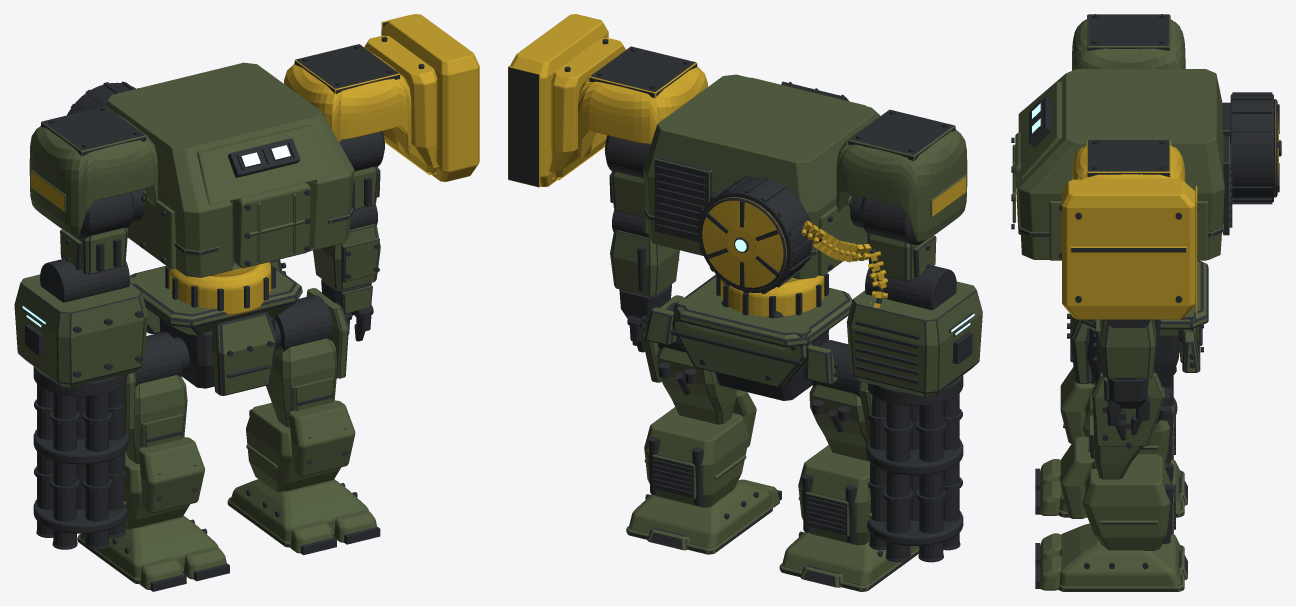
File: Titan_H2.fbx
The picture shows the model from 3 angles, left to right: view 1: azimuth 30°, elevation 25°; view 2: azimuth 150°, elevation 25°; view 3: azimuth 270°, elevation 25°; orthographic projection. The views are drawn at different scales.
Visible parts, largest first — view 1: H2_Torso_Upper, H2_Shoulder_L, H2_Cannon, H2_Barrels, H2_Shoulder_R, H2_Pelvis, H2_Shin_L, H2_Thigh_L, H2_Thigh_R, H2_Shin_R, H2_Hatch, H2_Foot_L (+10 smaller); view 2: H2_Torso_Upper, H2_Shoulder_L, H2_Cannon, H2_Pelvis, H2_Barrels, H2_Shoulder_R, H2_Drum, H2_Shin_L, H2_Foot_L, H2_Shin_R, H2_Foot_R, H2_Thigh_R (+7 smaller); view 3: H2_Torso_Upper, H2_Shoulder_L, H2_Shin_L, H2_Foot_L, H2_Shoulder_R, H2_Drum, H2_Pelvis, H2_Thigh_L, H2_Forearm_L, H2_Shin_R, H2_Toe_L, H2_Toe_R (+6 smaller).
Boxes of the visible parts, left/top/right/bottom form: H2_Torso_Upper: left=106, top=62, right=354, bottom=277; H2_Shoulder_L: left=284, top=14, right=479, bottom=181; H2_Cannon: left=14, top=258, right=147, bottom=396; H2_Barrels: left=33, top=384, right=128, bottom=549; H2_Shoulder_R: left=29, top=106, right=157, bottom=235; H2_Pelvis: left=129, top=259, right=302, bottom=395; H2_Shin_L: left=246, top=400, right=355, bottom=492; H2_Thigh_L: left=266, top=288, right=348, bottom=427; H2_Thigh_R: left=123, top=332, right=187, bottom=463; H2_Shin_R: left=123, top=437, right=204, bottom=529; H2_Hatch: left=233, top=182, right=310, bottom=268; H2_Foot_L: left=227, top=479, right=368, bottom=547; H2_Torso_Upper: left=643, top=74, right=880, bottom=279; H2_Shoulder_L: left=508, top=14, right=707, bottom=187; H2_Cannon: left=846, top=265, right=982, bottom=405; H2_Pelvis: left=642, top=274, right=852, bottom=400; H2_Barrels: left=866, top=393, right=963, bottom=562; H2_Shoulder_R: left=836, top=109, right=967, bottom=241; H2_Drum: left=696, top=175, right=812, bottom=294; H2_Shin_L: left=644, top=389, right=756, bottom=507; H2_Foot_L: left=626, top=481, right=772, bottom=554; H2_Shin_R: left=798, top=445, right=871, bottom=545; H2_Foot_R: left=779, top=531, right=919, bottom=591; H2_Thigh_R: left=809, top=340, right=872, bottom=461; H2_Torso_Upper: left=1018, top=69, right=1232, bottom=260; H2_Shoulder_L: left=1062, top=139, right=1197, bottom=319; H2_Shin_L: left=1060, top=437, right=1175, bottom=550; H2_Foot_L: left=1058, top=523, right=1187, bottom=591; H2_Shoulder_R: left=1072, top=14, right=1185, bottom=70; H2_Drum: left=1230, top=92, right=1281, bottom=204; H2_Pelvis: left=1067, top=260, right=1208, bottom=386; H2_Thigh_L: left=1088, top=364, right=1170, bottom=479; H2_Forearm_L: left=1093, top=319, right=1160, bottom=378; H2_Shin_R: left=1060, top=367, right=1175, bottom=463; H2_Toe_L: left=1035, top=533, right=1061, bottom=590; H2_Toe_R: left=1035, top=459, right=1061, bottom=515.
Bounding box in the file's own units: 5.9 × 5.96 × 3.24.
